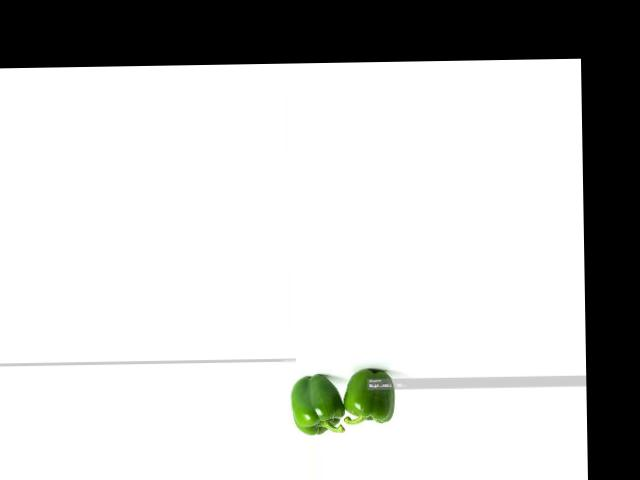bell_pepper: (290, 365, 343, 439)
